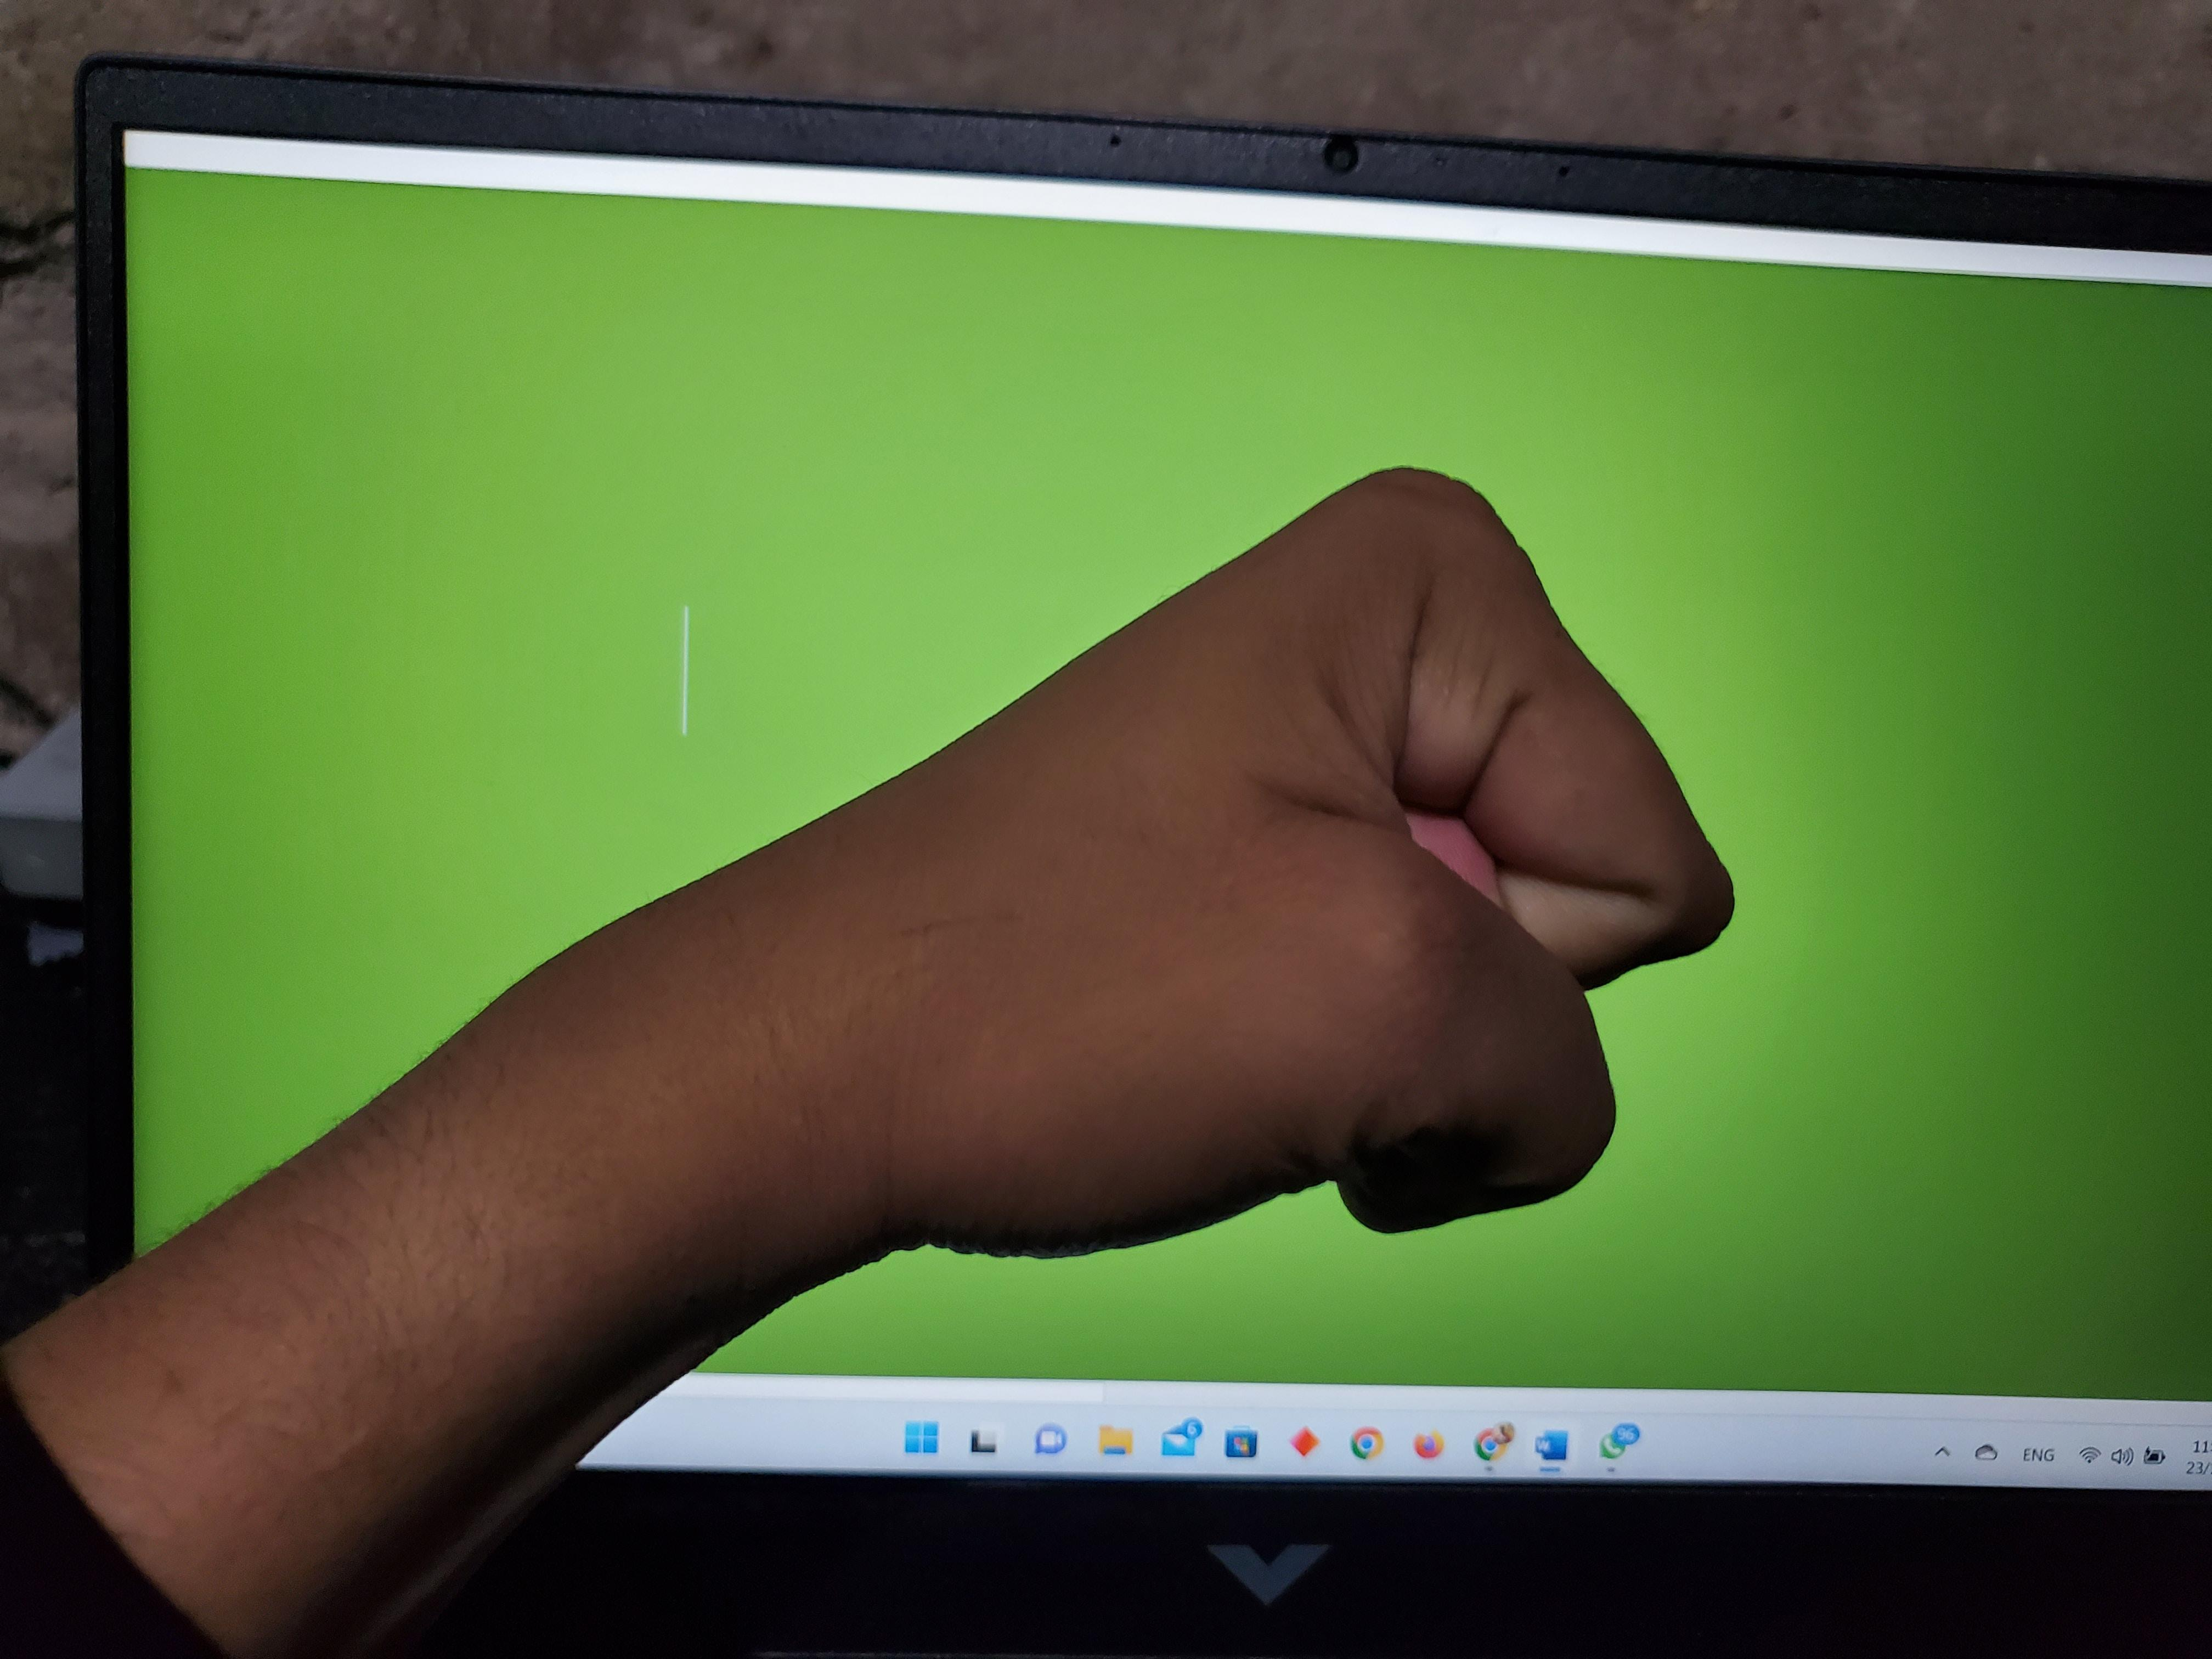Stone: (489, 324, 1935, 1443)
